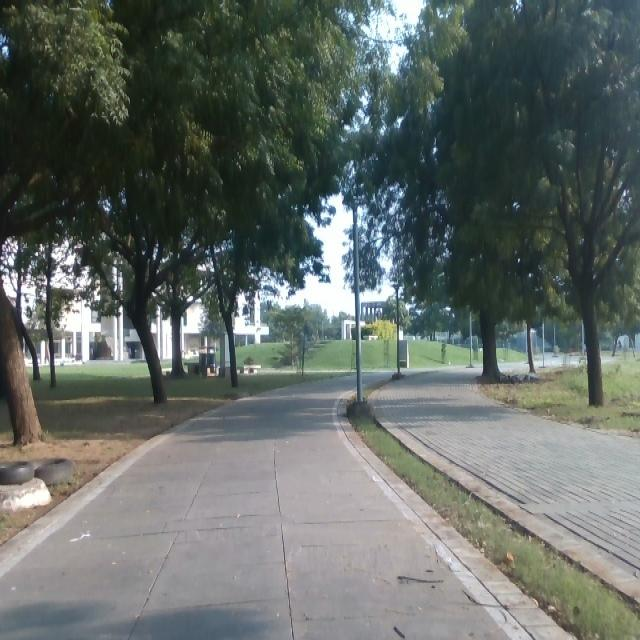lane: (2, 372, 528, 638)
